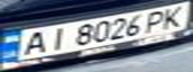0: (90, 18, 115, 44)
2: (109, 16, 130, 40)
6: (124, 11, 148, 38)
8: (72, 20, 96, 47)
A: (12, 29, 51, 57)
I: (39, 25, 72, 52)
K: (157, 3, 190, 30)
P: (139, 8, 172, 34)
